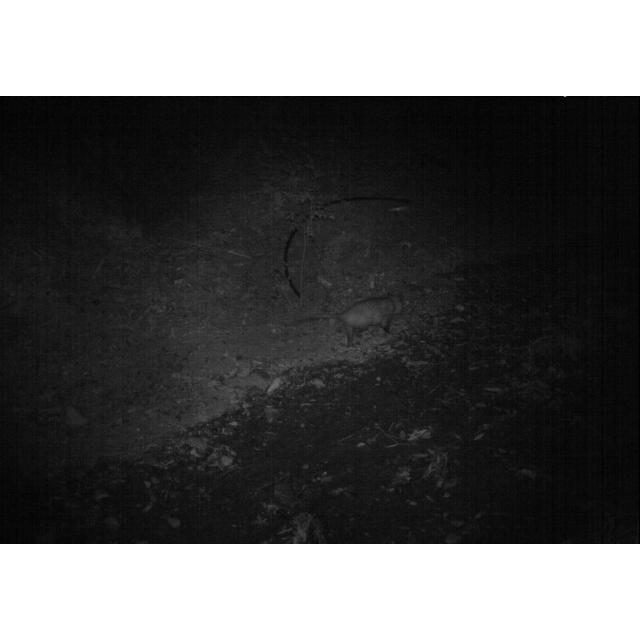animals: (292, 290, 408, 344)
